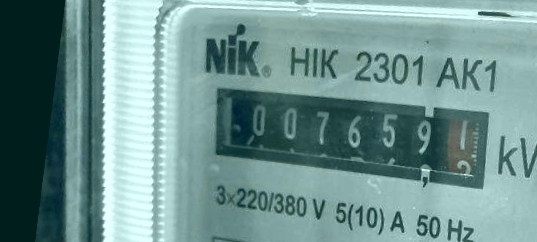0: (277, 102, 302, 144), (246, 100, 271, 140)
1: (450, 114, 474, 153)
5: (375, 109, 402, 151)
6: (341, 109, 368, 152)
7: (308, 106, 335, 147)
9: (411, 115, 436, 158)
screen: (198, 71, 499, 199)
